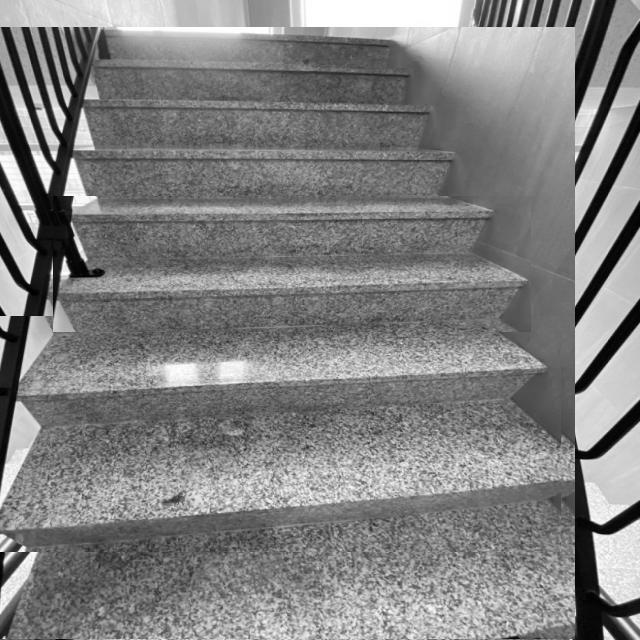stair: (0, 27, 575, 639), (0, 316, 561, 552), (54, 196, 531, 332)
